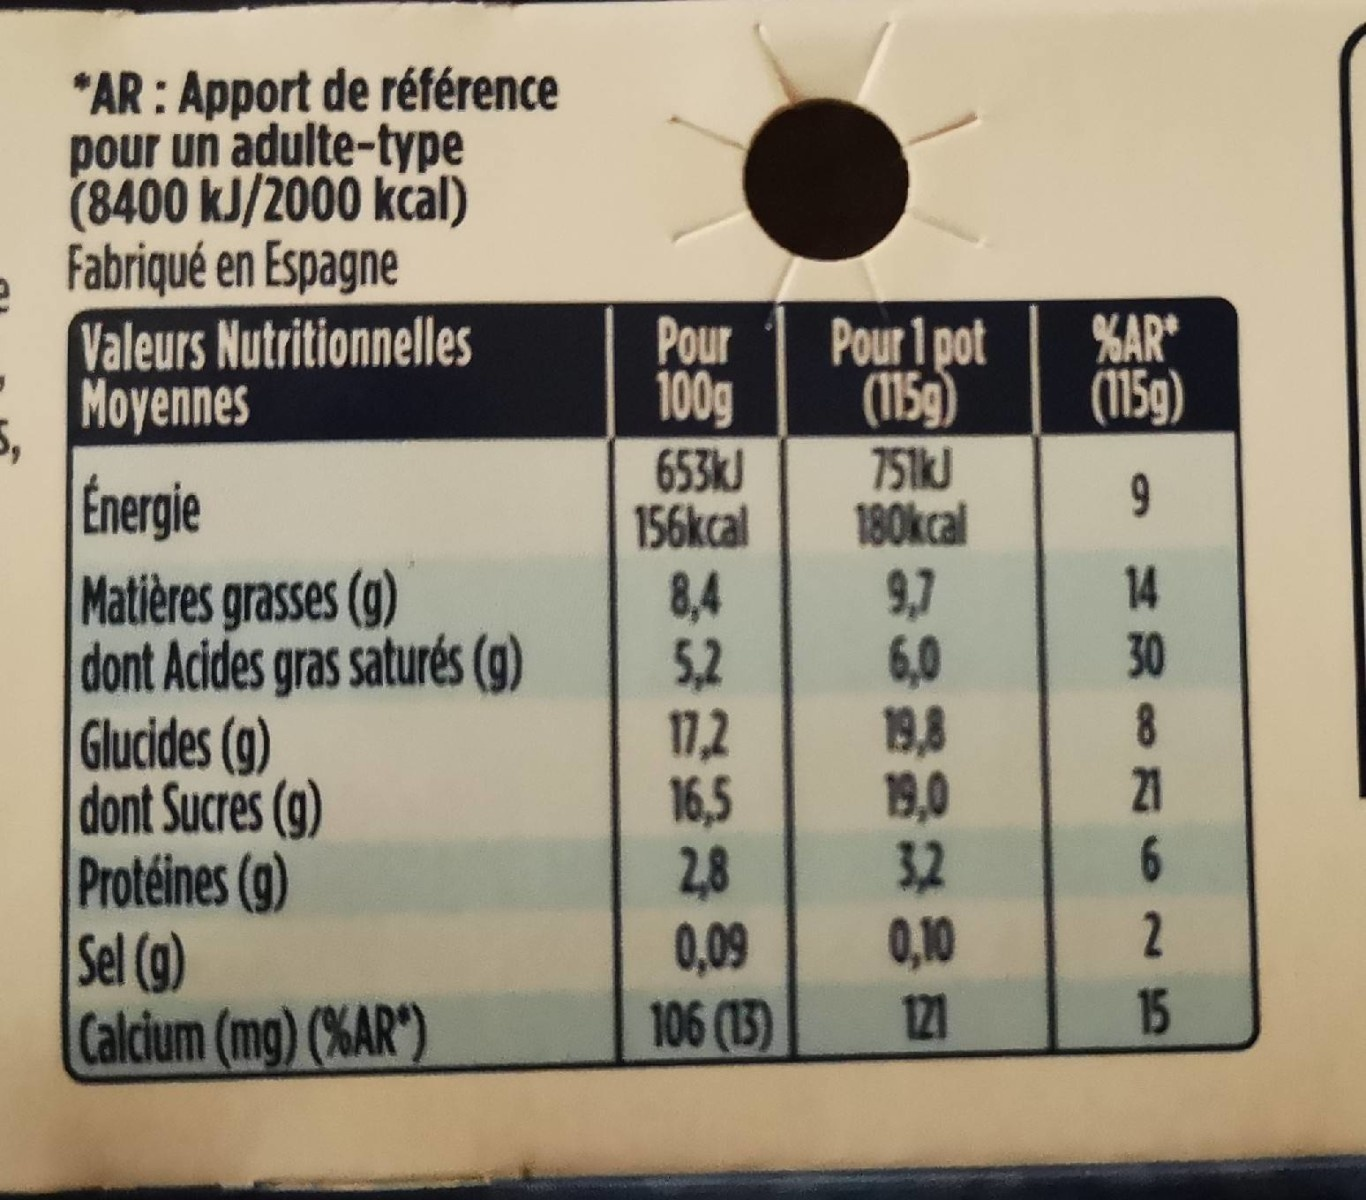column: (67, 308, 603, 1075), (800, 304, 1018, 1052), (1051, 301, 1235, 1063), (621, 306, 785, 1068)
table: (69, 299, 1253, 1063)
